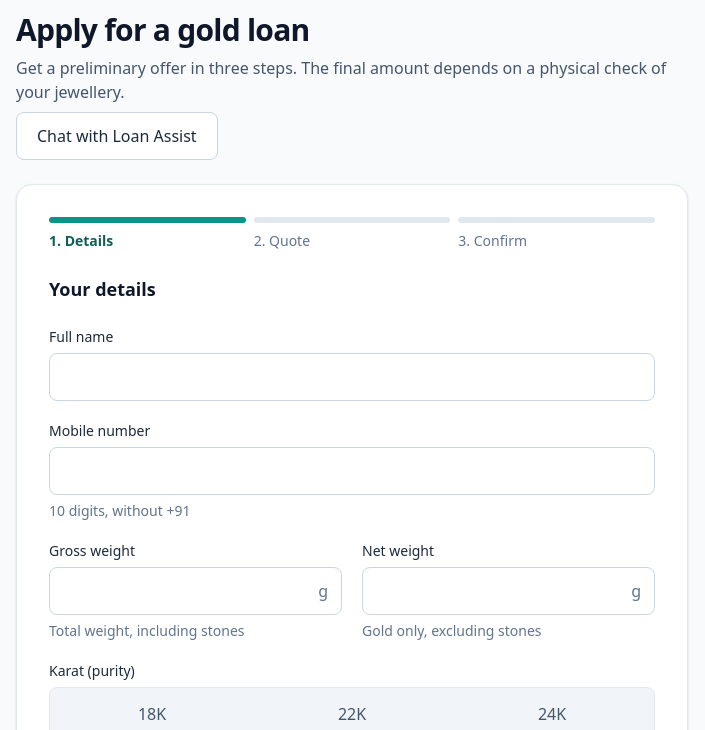
Apply step 1 (Details) › shows an error only after the first blur, then updates live while typing
Type "98765" into the field labelled "Mobile number" at (352, 471), box [49,447,655,495]
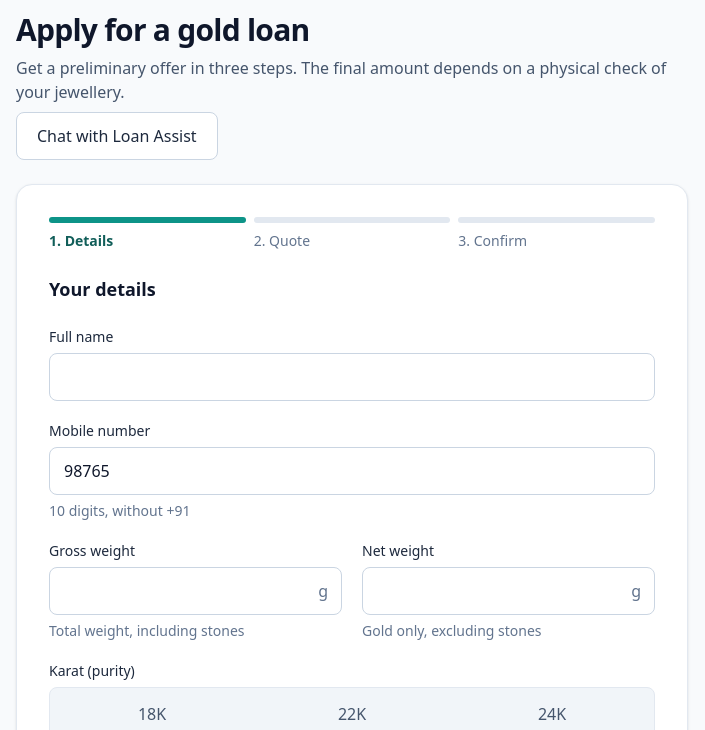
Expected: the text "Enter a valid 10-digit Indian mobile number starting with 6–9" is not shown
Leave the field labelled "Mobile number", box [49,447,655,495]
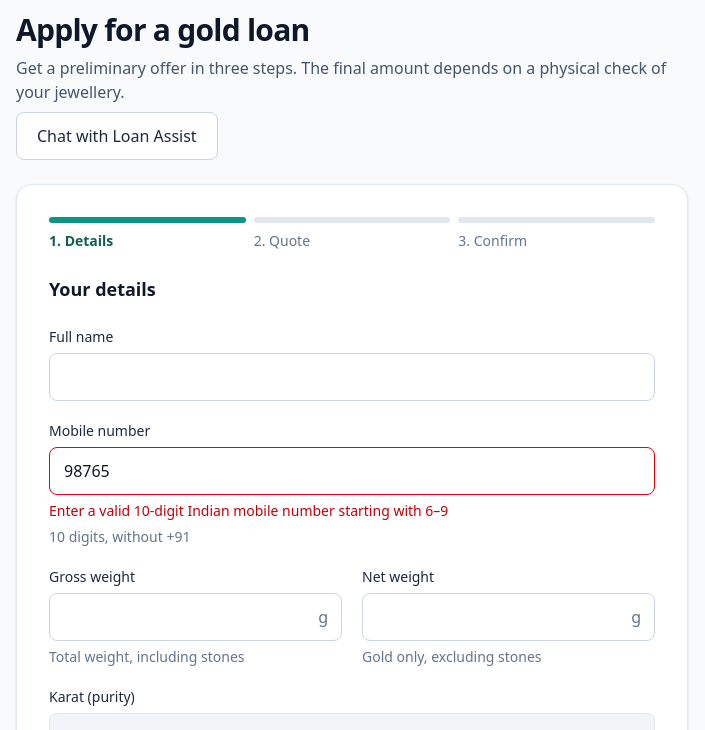
Result: the text "Enter a valid 10-digit Indian mobile number starting with 6–9" is shown at [49,501,448,520]
Replace the text in the field labelled "Mobile number" with "9876543210" at (352, 471), box [49,447,655,495]
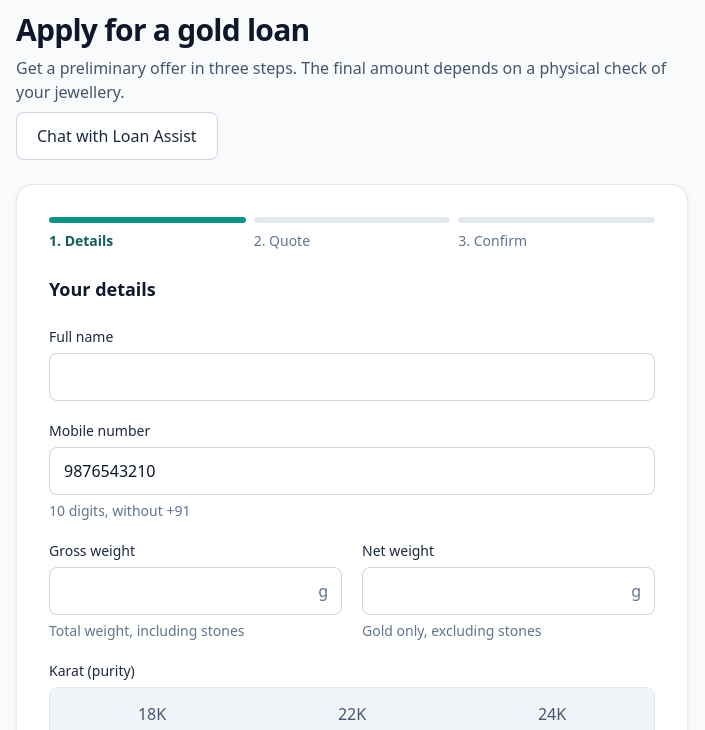
Result: the text "Enter a valid 10-digit Indian mobile number starting with 6–9" is gone
